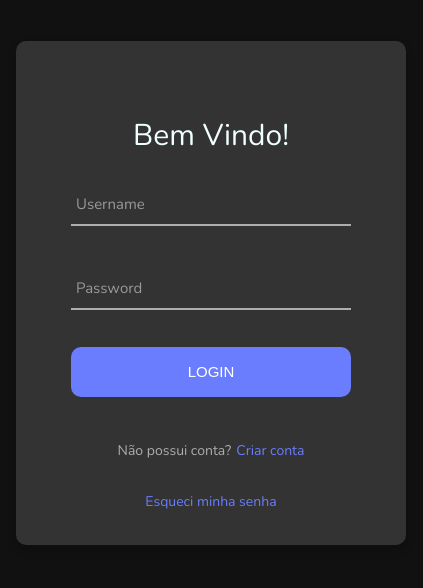
Scenario: Componente Login › Operações com backend não funcional › Alerta ao falhar a comunicacao com servidor
Step 1. Type "Victor" into the field with test id "usernameInput" → (211, 202), box [71,179,351,224]
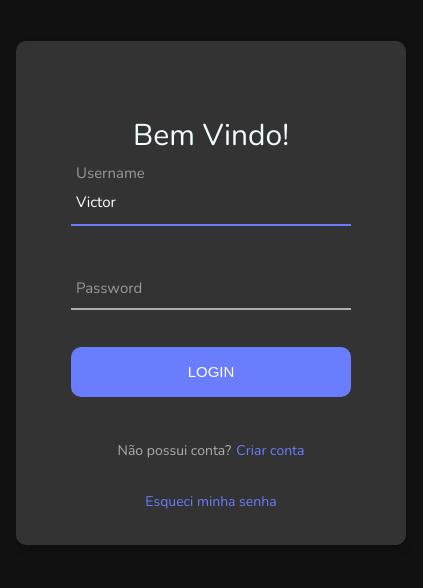
Step 2. Type "1234" into the password field with test id "passwordInput" → (211, 286), box [71,263,351,308]
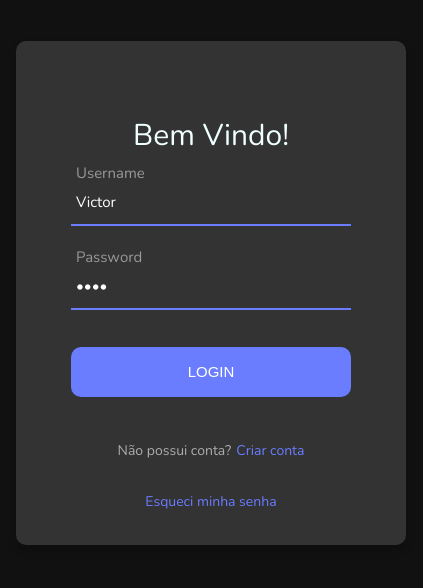
Step 3. Click the button → click(211, 372), box [71,347,351,397]
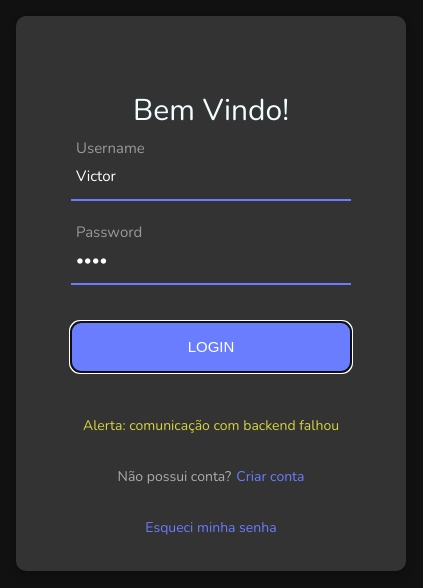
Expected: the text "comunicação com backend falhou" is shown, [129,416,339,434]
